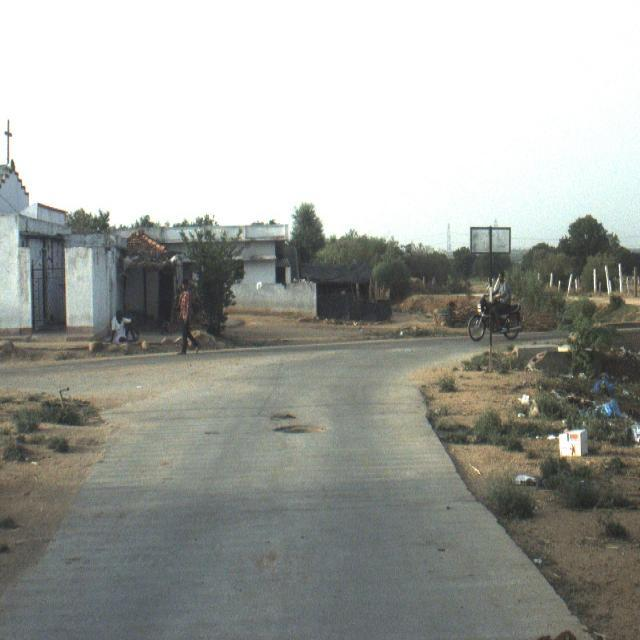pothole: (245, 362, 341, 468)
